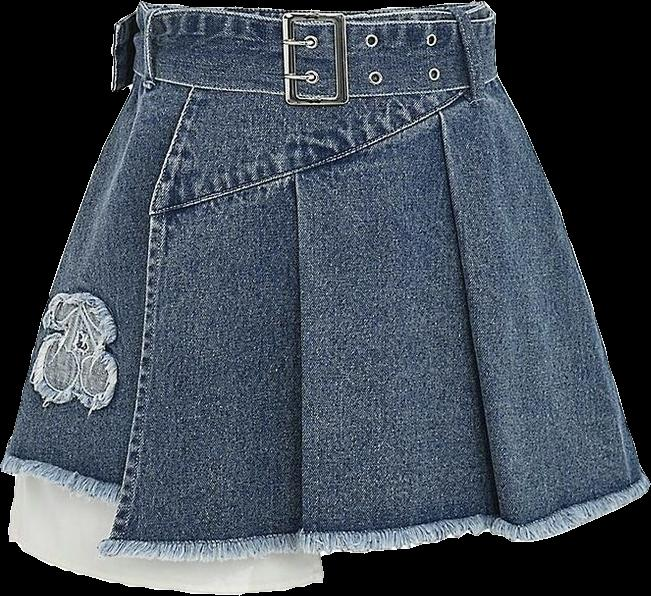Hemline: (102, 90, 650, 562), (0, 463, 650, 562)
Waistline: (133, 69, 501, 101), (138, 0, 487, 25)
